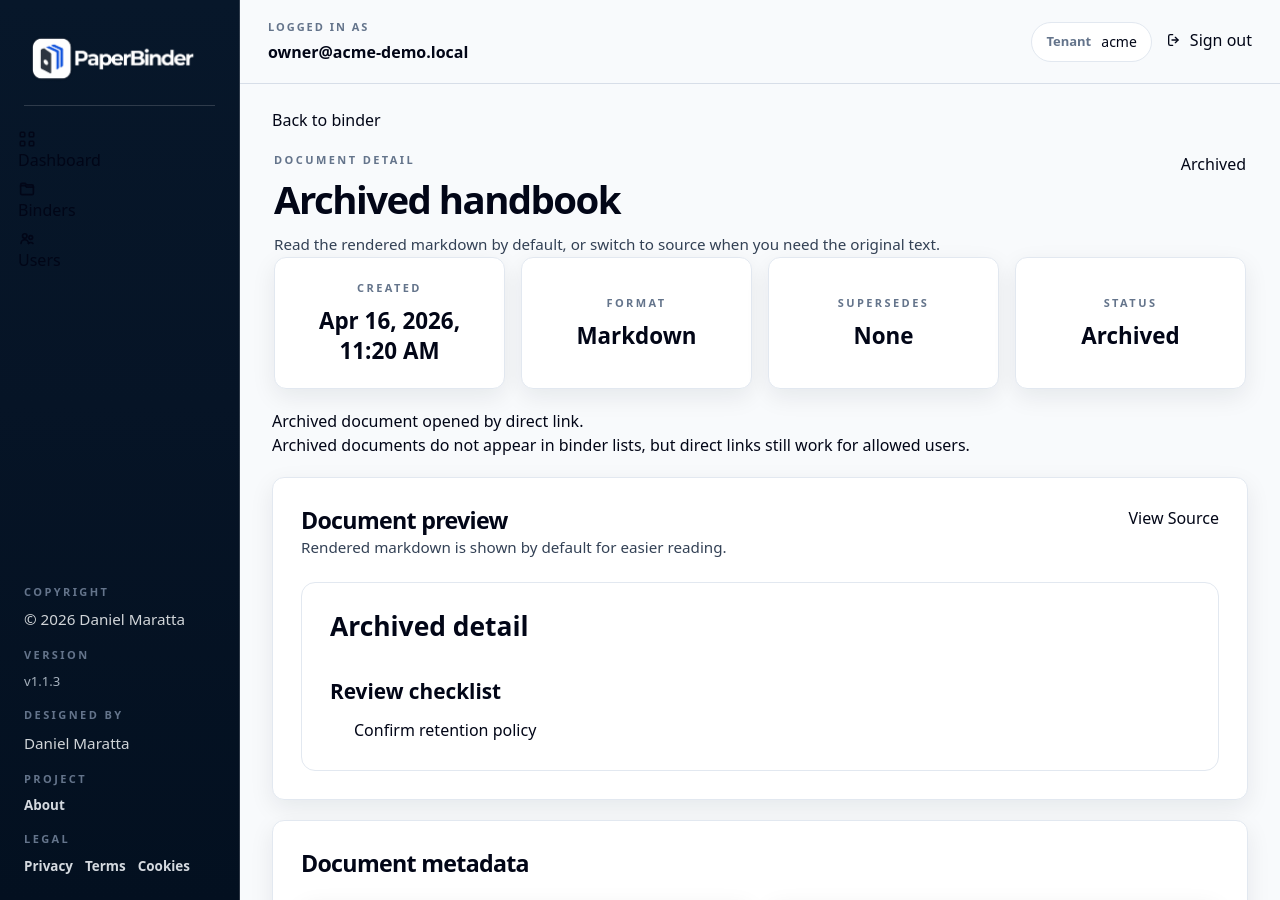
Scenario: tenant shell › Should_RenderReadOnlyArchivedDocument_When_DocumentDetailSucceeds
Expected: the heading "Archived handbook" is shown, [274,172,620,224]
Expected: the heading "Document preview" is shown, [301,504,508,536]
Click the button "View Source" at x=1174, y=518, box [1128,506,1219,530]
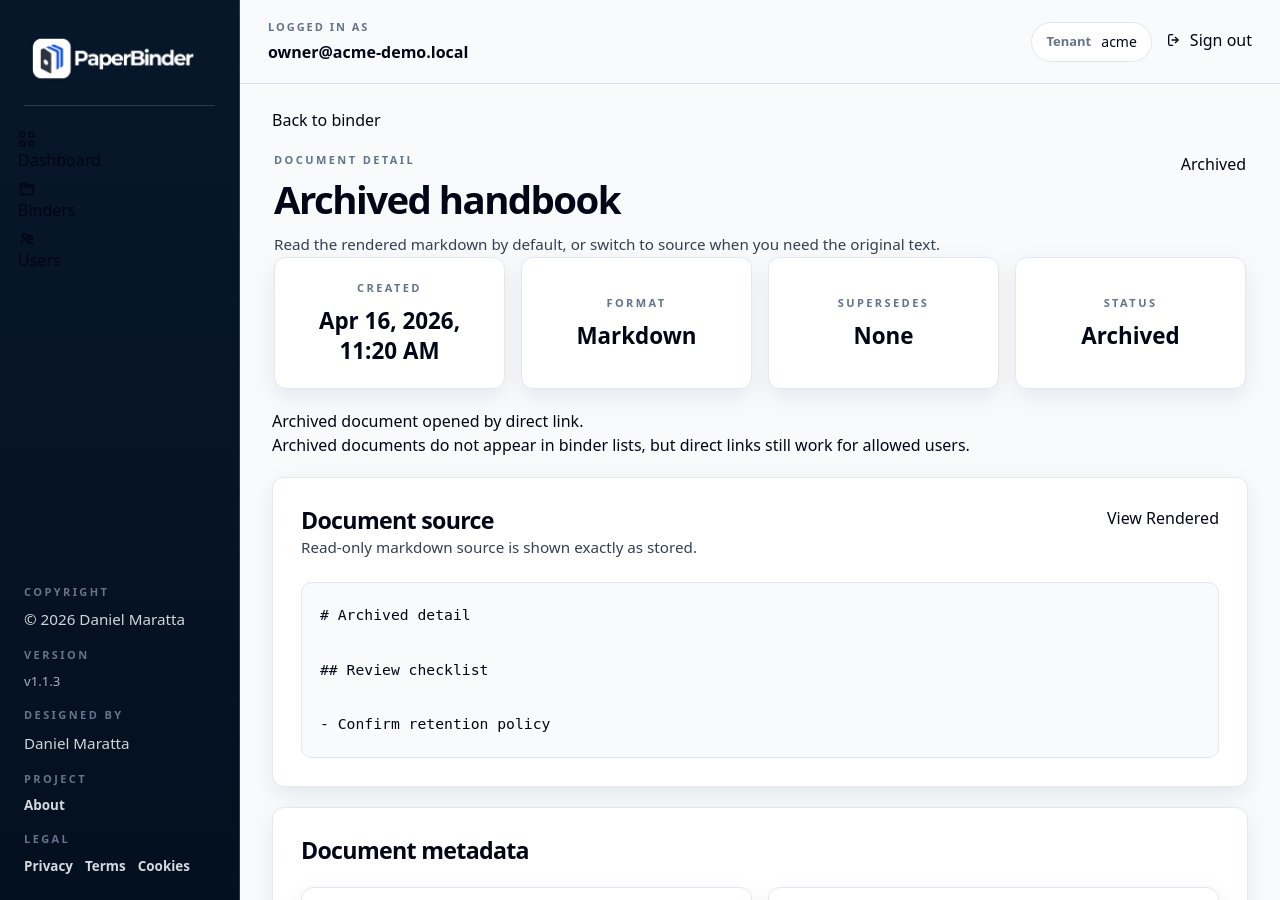
Result: the heading "Document source" is shown at [301,504,494,536]
Result: the button "View Rendered" is shown
Result: the text "# Archived detail" is shown at [320,606,550,732]
Click the button "View Rendered" at x=1163, y=518, box [1107,506,1219,530]
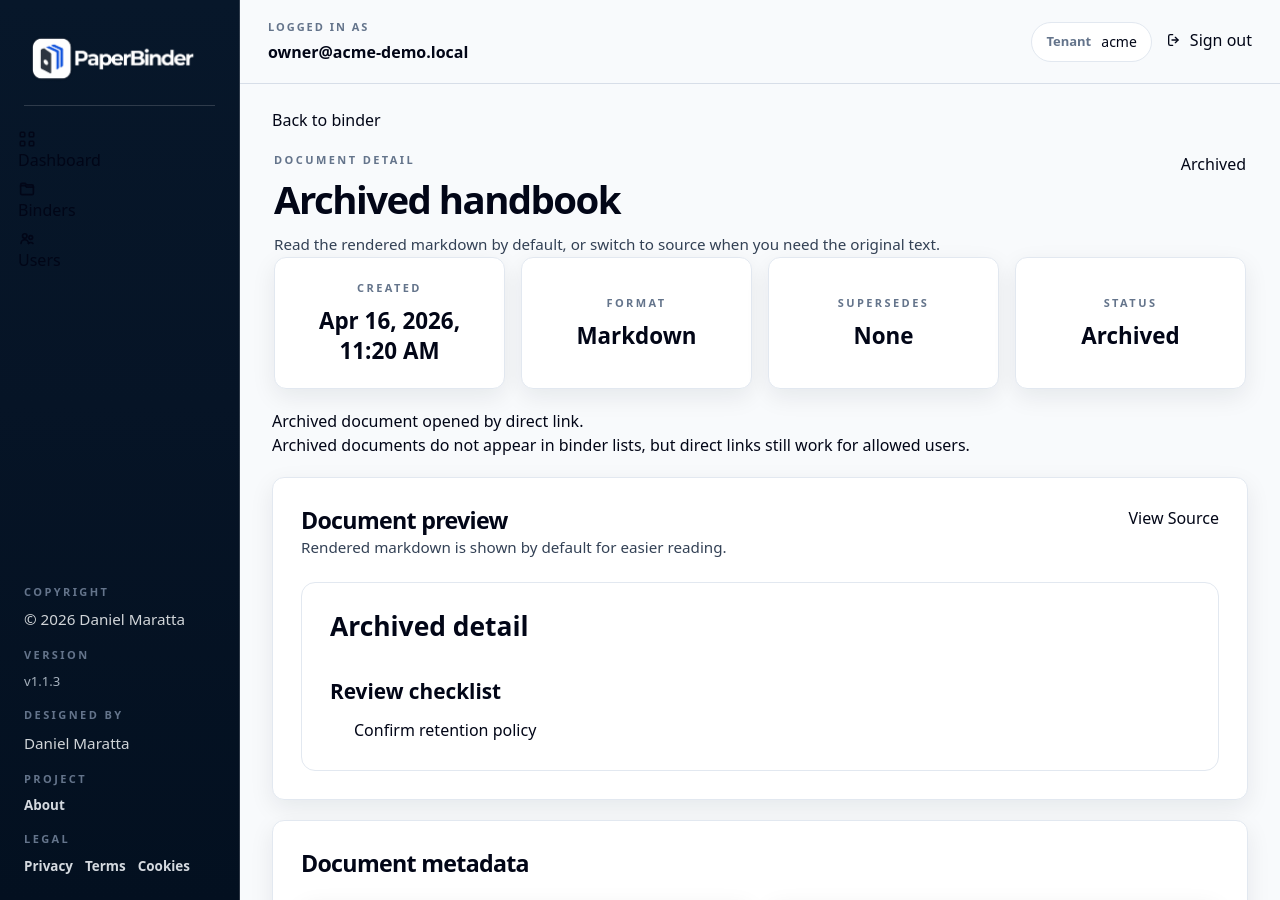
Result: the heading "Document preview" is shown at [301,504,508,536]
Result: the text "# Archived detail" is gone
